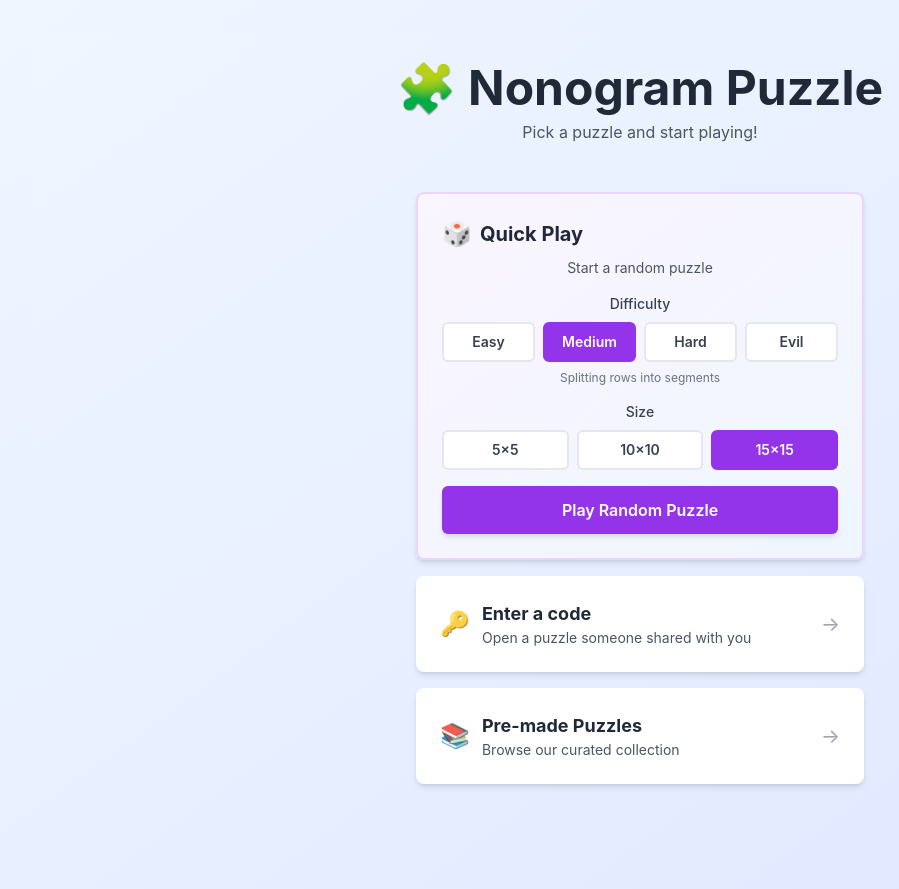
Test: LandingPage › reveals the code field in place rather than navigating
This screenshot has width=899, height=889.
Expected: the field labelled "Puzzle code" is not shown
Click the button "Enter a code" at {"x": 537, "y": 614}, box left=416, top=576, right=864, bottom=672
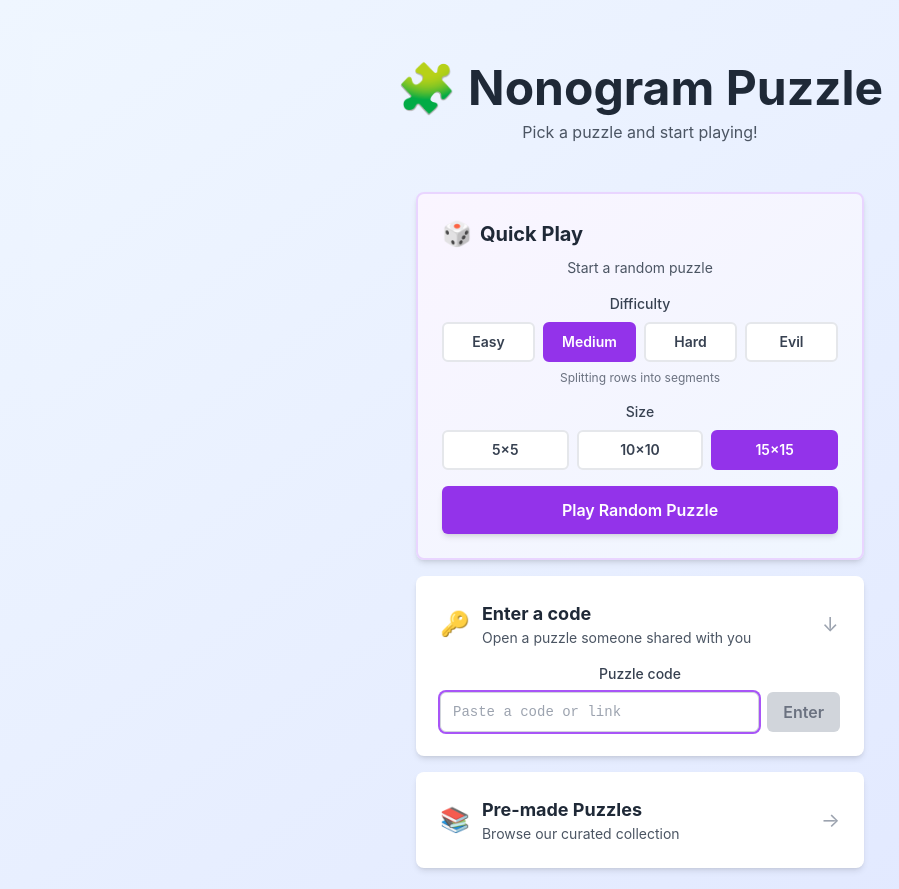
Now the button "Enter a code" is expanded, box left=416, top=576, right=864, bottom=672
Now the field labelled "Puzzle code" is shown, box left=440, top=692, right=759, bottom=732
